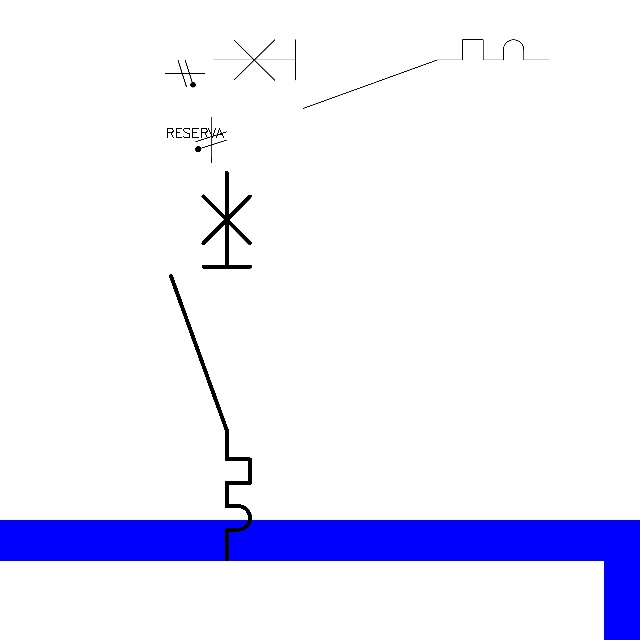interruptor_termomagnetico: (161, 162, 260, 568), (204, 31, 557, 117)
